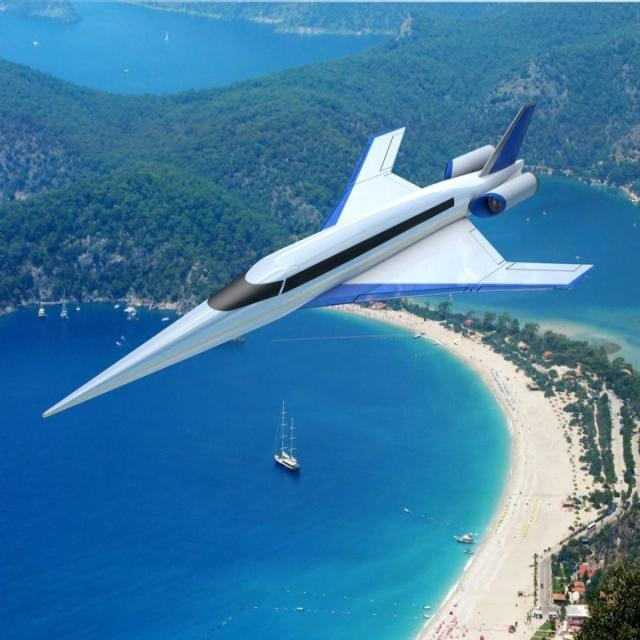jet: (18, 29, 630, 493)
